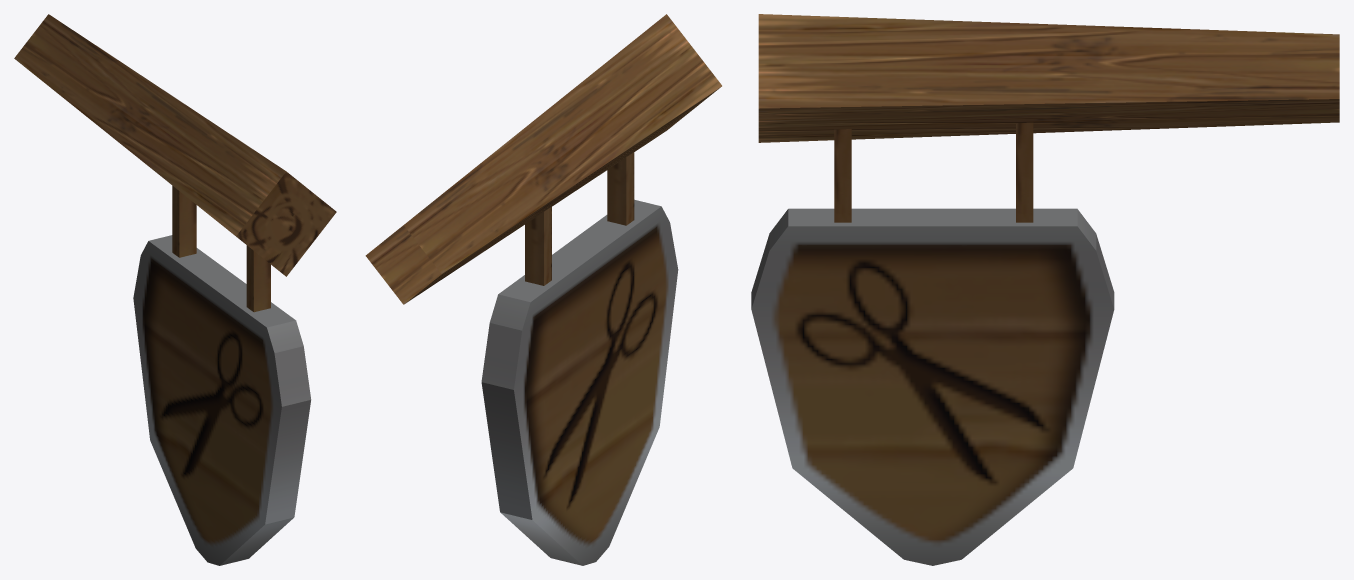
The model's file is fanasty_mod_sign04.fbx.
3 views of the same model, side by side, from view 1: azimuth 30°, elevation 25°; view 2: azimuth 150°, elevation 25°; view 3: azimuth 270°, elevation 25° (orthographic). The views are drawn at different scales.
Visible parts, largest first — view 1: sign_04; view 2: sign_04; view 3: sign_04.
Boxes of the visible parts, <box> form: sign_04: <box>14,14,336,565</box>; sign_04: <box>365,14,721,565</box>; sign_04: <box>751,14,1339,565</box>.
Size of the model in its own units: 0.5703 by 2.38 by 2.36.
